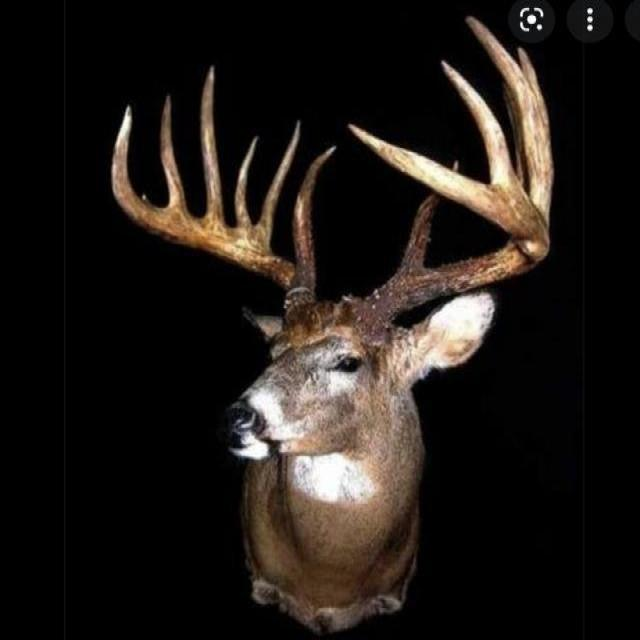deer: (104, 17, 558, 634)
